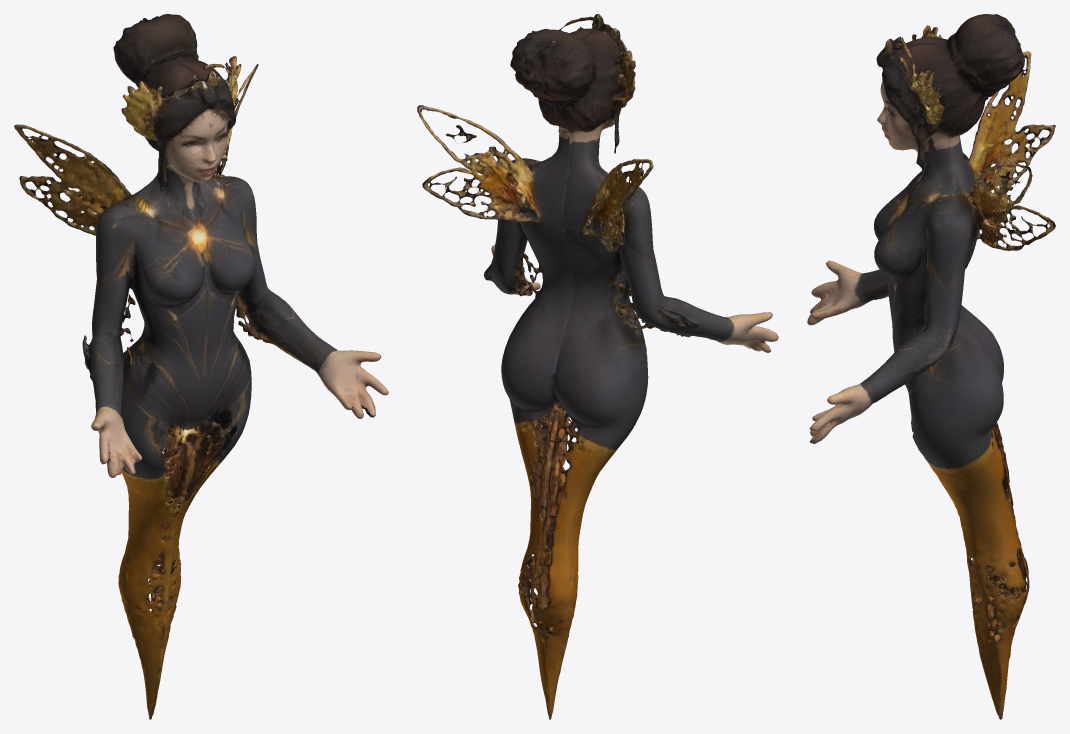
The model's file is bia.glb.
3 views of the same model, side by side, from view 1: azimuth 30°, elevation 25°; view 2: azimuth 150°, elevation 25°; view 3: azimuth 270°, elevation 25° (orthographic). The views are drawn at different scales.
Parts seen in each view (by area): view 1: BIA; view 2: BIA; view 3: BIA.
Part boxes in pixels (x1,y1,x2,y2): BIA: (14,14,388,719); BIA: (417,14,778,719); BIA: (807,14,1055,719).
Size of the model in its own units: 0.8623 by 2 by 0.6454.
Materials: 4 (1 with a texture image).
